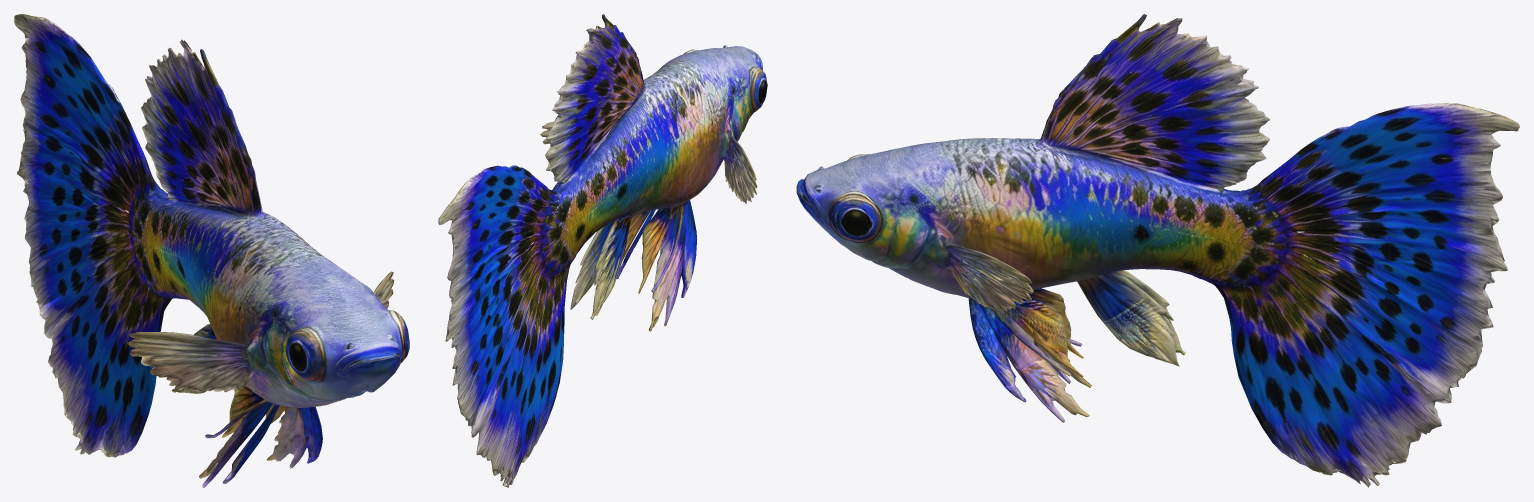
The model's file is guppy-2.glb.
The picture shows the model from 3 angles, left to right: view 1: azimuth 30°, elevation 25°; view 2: azimuth 150°, elevation 25°; view 3: azimuth 270°, elevation 25°; orthographic projection. The views are drawn at different scales.
Parts seen in each view (by area): view 1: Body; view 2: Body; view 3: Body.
Part boxes in pixels (x1,y1,x2,y2): Body: (14,14,409,487); Body: (438,14,767,487); Body: (796,14,1519,487).
Size of the model in its own units: 0.2339 by 0.4107 by 0.5694.
Materials: 1 (1 with a texture image).
